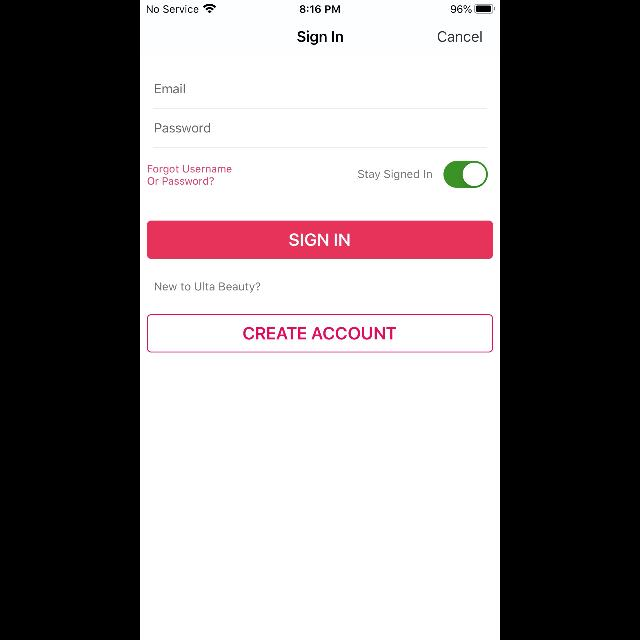input: (154, 84, 486, 110), (154, 124, 486, 148)
switch: (444, 160, 488, 188)
text: (148, 165, 232, 185), (156, 283, 260, 293), (358, 170, 432, 180), (297, 31, 343, 45), (156, 123, 210, 133), (438, 32, 482, 42), (155, 84, 185, 94)
textbutton: (147, 221, 493, 259), (148, 314, 492, 352)
uppertaskbar: (140, 0, 500, 14)
